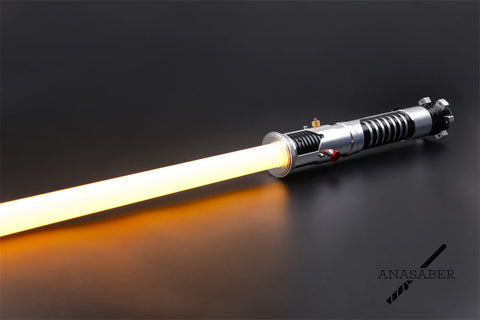lightsaber: (19, 93, 458, 246)
